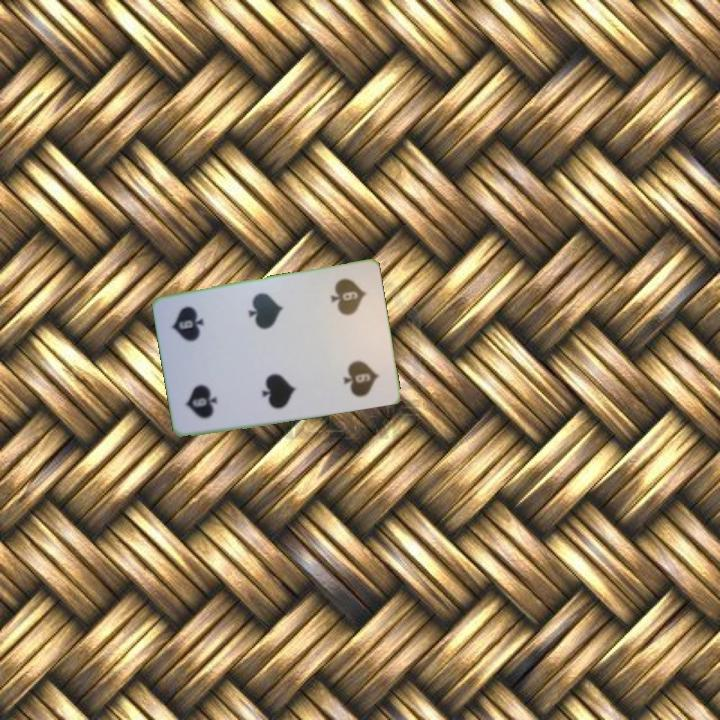s_6.png: (172, 354, 239, 429), (313, 269, 380, 344)
